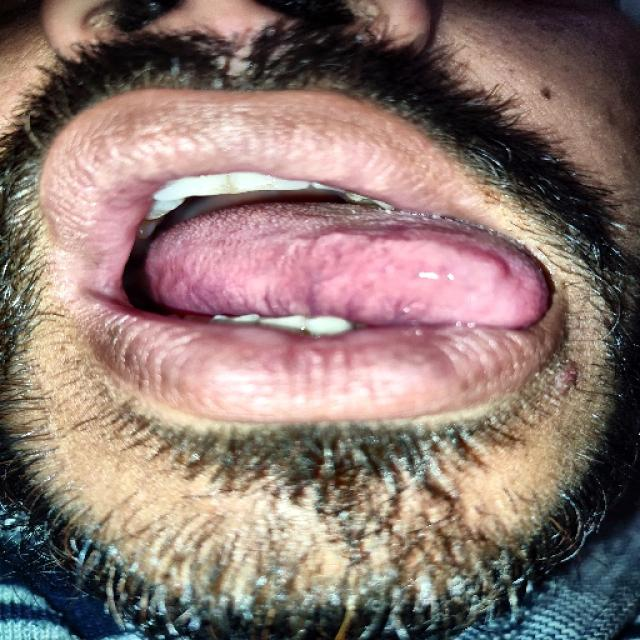processing_area: (141, 209, 546, 324)
